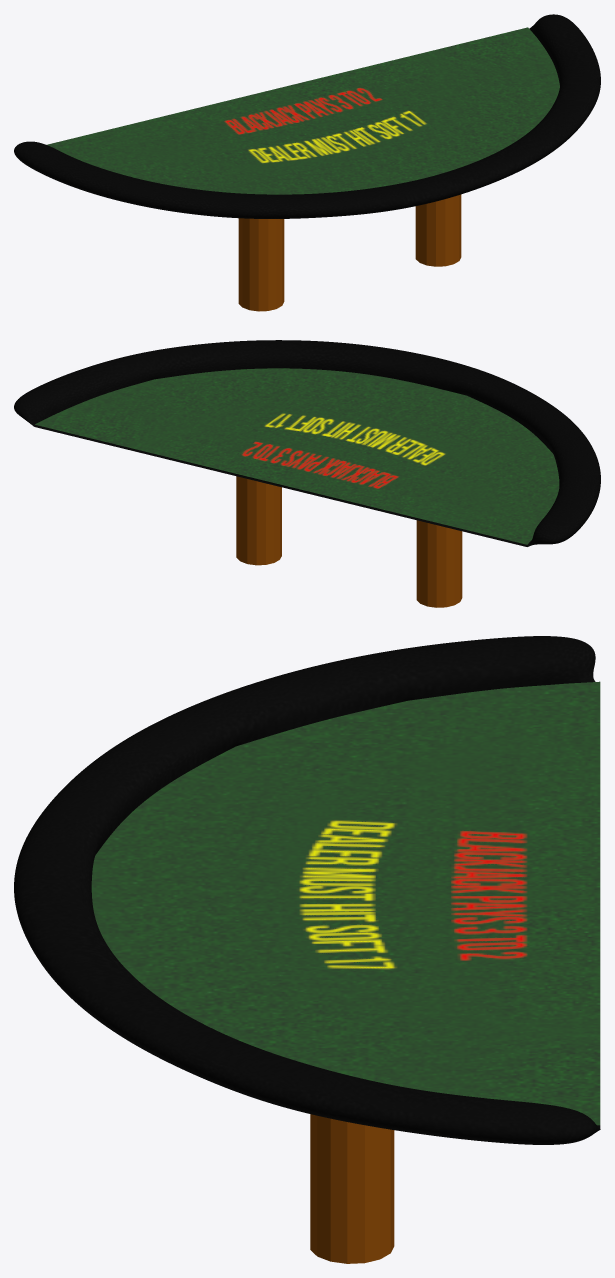
Rendered from BlackjackTable.fbx.
3 views of the same model, one above another, from view 1: azimuth 30°, elevation 25°; view 2: azimuth 150°, elevation 25°; view 3: azimuth 270°, elevation 25° (orthographic). The views are drawn at different scales.
Parts seen in each view (by area): view 1: Cylinder, Cylinder.002, Cylinder.003; view 2: Cylinder, Cylinder.003, Cylinder.002; view 3: Cylinder, Cylinder.003.
Boxes of the visible parts, box(x1,y1,x2,y2) form: Cylinder: box(14, 14, 600, 218); Cylinder.002: box(238, 218, 284, 311); Cylinder.003: box(415, 194, 461, 266); Cylinder: box(14, 340, 600, 546); Cylinder.003: box(236, 476, 281, 565); Cylinder.002: box(416, 520, 462, 607); Cylinder: box(14, 636, 600, 1144); Cylinder.003: box(310, 1114, 394, 1263).
Size of the model in its own units: 705 by 192 by 352.
